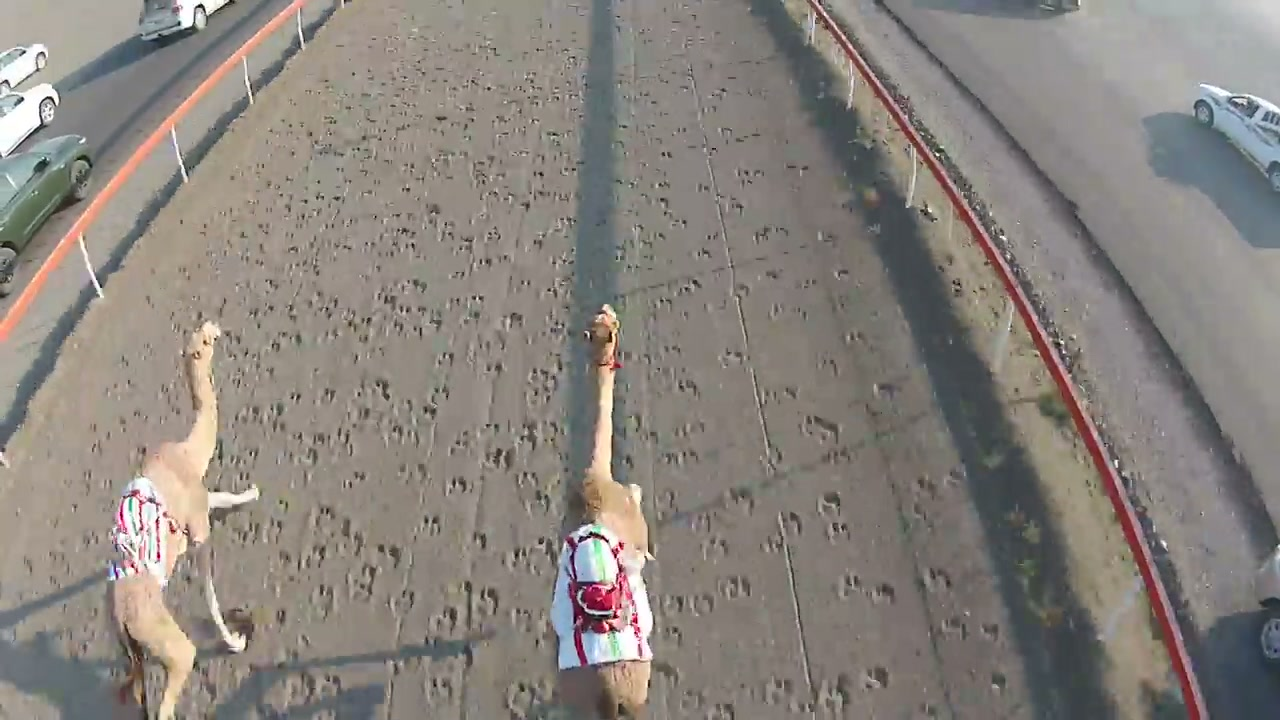animal_footprint: (240, 136, 391, 693), (771, 171, 922, 682), (420, 213, 571, 719), (629, 182, 766, 719)
